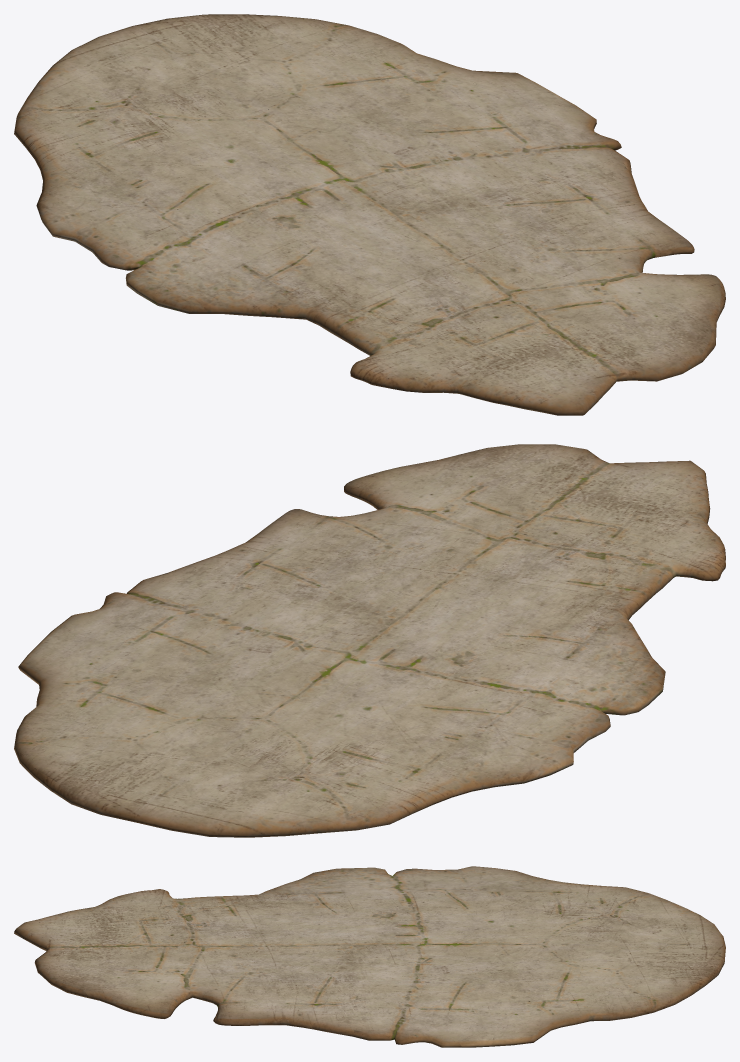
File: P5_ZBMJ_Props_Gupian_Posui.FBX
3 renders of one model, top to bottom at view 1: azimuth 30°, elevation 25°; view 2: azimuth 150°, elevation 25°; view 3: azimuth 270°, elevation 25°, orthographic. The views are drawn at different scales.
Visible parts, largest first — view 1: P5_ZBMJ_Props_Gupian_Posui099, P5_ZBMJ_Props_Gupian_Posui070, P5_ZBMJ_Props_Gupian_Posui120, P5_ZBMJ_Props_Gupian_Posui028, P5_ZBMJ_Props_Gupian_Posui107, P5_ZBMJ_Props_Gupian_Posui122, P5_ZBMJ_Props_Gupian_Posui027, P5_ZBMJ_Props_Gupian_Posui119, P5_ZBMJ_Props_Gupian_Posui106, P5_ZBMJ_Props_Gupian_Posui059, P5_ZBMJ_Props_Gupian_Posui088, P5_ZBMJ_Props_Gupian_Posui087 (+39 smaller); view 2: P5_ZBMJ_Props_Gupian_Posui099, P5_ZBMJ_Props_Gupian_Posui070, P5_ZBMJ_Props_Gupian_Posui120, P5_ZBMJ_Props_Gupian_Posui028, P5_ZBMJ_Props_Gupian_Posui107, P5_ZBMJ_Props_Gupian_Posui122, P5_ZBMJ_Props_Gupian_Posui027, P5_ZBMJ_Props_Gupian_Posui119, P5_ZBMJ_Props_Gupian_Posui106, P5_ZBMJ_Props_Gupian_Posui059, P5_ZBMJ_Props_Gupian_Posui088, P5_ZBMJ_Props_Gupian_Posui087 (+41 smaller); view 3: P5_ZBMJ_Props_Gupian_Posui099, P5_ZBMJ_Props_Gupian_Posui070, P5_ZBMJ_Props_Gupian_Posui122, P5_ZBMJ_Props_Gupian_Posui119, P5_ZBMJ_Props_Gupian_Posui120, P5_ZBMJ_Props_Gupian_Posui028, P5_ZBMJ_Props_Gupian_Posui027, P5_ZBMJ_Props_Gupian_Posui107, P5_ZBMJ_Props_Gupian_Posui019, P5_ZBMJ_Props_Gupian_Posui106, P5_ZBMJ_Props_Gupian_Posui088, P5_ZBMJ_Props_Gupian_Posui123 (+53 smaller).
Part boxes in pixels (x1=…): P5_ZBMJ_Props_Gupian_Posui099: x1=14, y1=25, x2=631, y2=415; P5_ZBMJ_Props_Gupian_Posui070: x1=498, y1=109, x2=594, y2=153; P5_ZBMJ_Props_Gupian_Posui120: x1=418, y1=110, x2=490, y2=160; P5_ZBMJ_Props_Gupian_Posui028: x1=388, y1=61, x2=489, y2=99; P5_ZBMJ_Props_Gupian_Posui107: x1=261, y1=52, x2=332, y2=93; P5_ZBMJ_Props_Gupian_Posui122: x1=439, y1=88, x2=565, y2=113; P5_ZBMJ_Props_Gupian_Posui027: x1=323, y1=72, x2=407, y2=110; P5_ZBMJ_Props_Gupian_Posui119: x1=473, y1=99, x2=581, y2=135; P5_ZBMJ_Props_Gupian_Posui106: x1=316, y1=42, x2=385, y2=82; P5_ZBMJ_Props_Gupian_Posui059: x1=353, y1=124, x2=413, y2=162; P5_ZBMJ_Props_Gupian_Posui088: x1=222, y1=22, x2=294, y2=56; P5_ZBMJ_Props_Gupian_Posui087: x1=183, y1=30, x2=234, y2=69; P5_ZBMJ_Props_Gupian_Posui099: x1=135, y1=458, x2=725, y2=837; P5_ZBMJ_Props_Gupian_Posui070: x1=59, y1=602, x2=201, y2=629; P5_ZBMJ_Props_Gupian_Posui120: x1=142, y1=630, x2=271, y2=660; P5_ZBMJ_Props_Gupian_Posui028: x1=69, y1=660, x2=148, y2=703; P5_ZBMJ_Props_Gupian_Posui107: x1=98, y1=709, x2=198, y2=744; P5_ZBMJ_Props_Gupian_Posui122: x1=40, y1=634, x2=145, y2=666; P5_ZBMJ_Props_Gupian_Posui027: x1=100, y1=674, x2=189, y2=709; P5_ZBMJ_Props_Gupian_Posui119: x1=47, y1=623, x2=179, y2=649; P5_ZBMJ_Props_Gupian_Posui106: x1=63, y1=709, x2=152, y2=736; P5_ZBMJ_Props_Gupian_Posui059: x1=207, y1=644, x2=302, y2=672; P5_ZBMJ_Props_Gupian_Posui088: x1=65, y1=749, x2=150, y2=778; P5_ZBMJ_Props_Gupian_Posui087: x1=104, y1=758, x2=198, y2=787; P5_ZBMJ_Props_Gupian_Posui099: x1=14, y1=866, x2=725, y2=963; P5_ZBMJ_Props_Gupian_Posui070: x1=400, y1=1001, x2=461, y2=1047; P5_ZBMJ_Props_Gupian_Posui122: x1=478, y1=999, x2=514, y2=1047; P5_ZBMJ_Props_Gupian_Posui119: x1=440, y1=1000, x2=479, y2=1047; P5_ZBMJ_Props_Gupian_Posui120: x1=426, y1=970, x2=490, y2=1004; P5_ZBMJ_Props_Gupian_Posui028: x1=513, y1=991, x2=582, y2=1021; P5_ZBMJ_Props_Gupian_Posui027: x1=510, y1=969, x2=569, y2=996; P5_ZBMJ_Props_Gupian_Posui107: x1=557, y1=959, x2=620, y2=983; P5_ZBMJ_Props_Gupian_Posui019: x1=505, y1=1018, x2=554, y2=1045; P5_ZBMJ_Props_Gupian_Posui106: x1=569, y1=976, x2=632, y2=1002; P5_ZBMJ_Props_Gupian_Posui088: x1=638, y1=959, x2=683, y2=983; P5_ZBMJ_Props_Gupian_Posui123: x1=93, y1=982, x2=138, y2=1009.
Size of the model in its own units: 9.12 by 0.3334 by 15.25.
